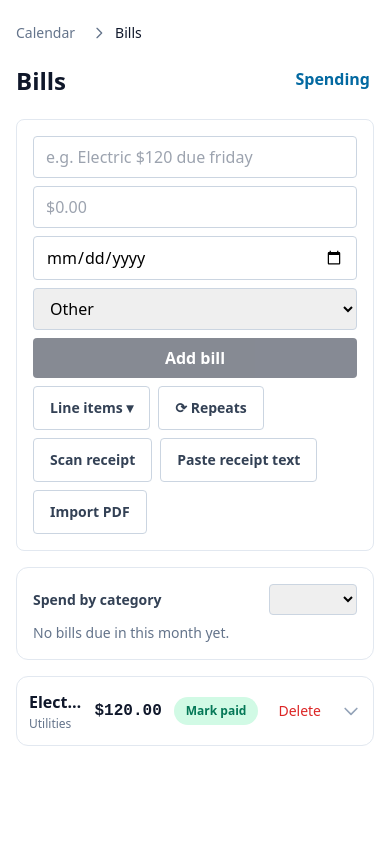
Scenario: line items editor (#031) › renders a bare-code item with a name-it-once prompt
Click the button named "Show details for Electric" at (351,711), box top-left (341, 689), bottom-right (361, 733)
(page scrolled)
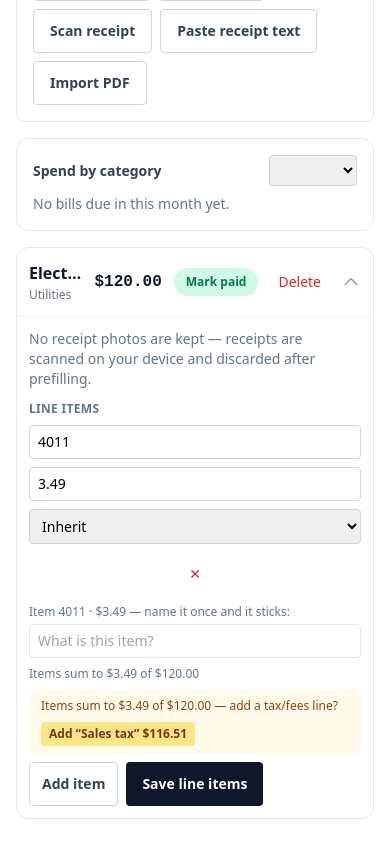
Expected: the text "Item 4011 · $3.49 — name it once and it sticks:" is shown, top-left (29, 603), bottom-right (290, 620)
Expected: the field named "Name for item 4011" is shown, top-left (29, 624), bottom-right (361, 658)
